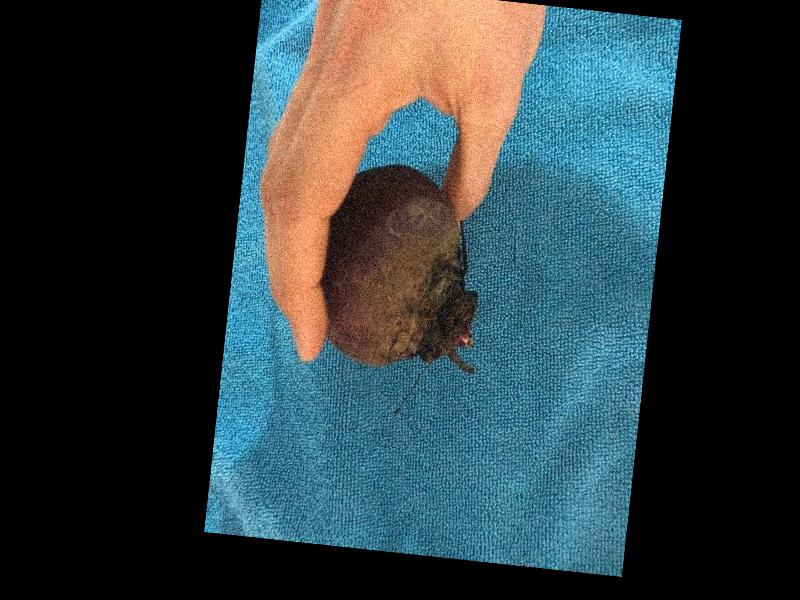Beet: (314, 160, 494, 375)
